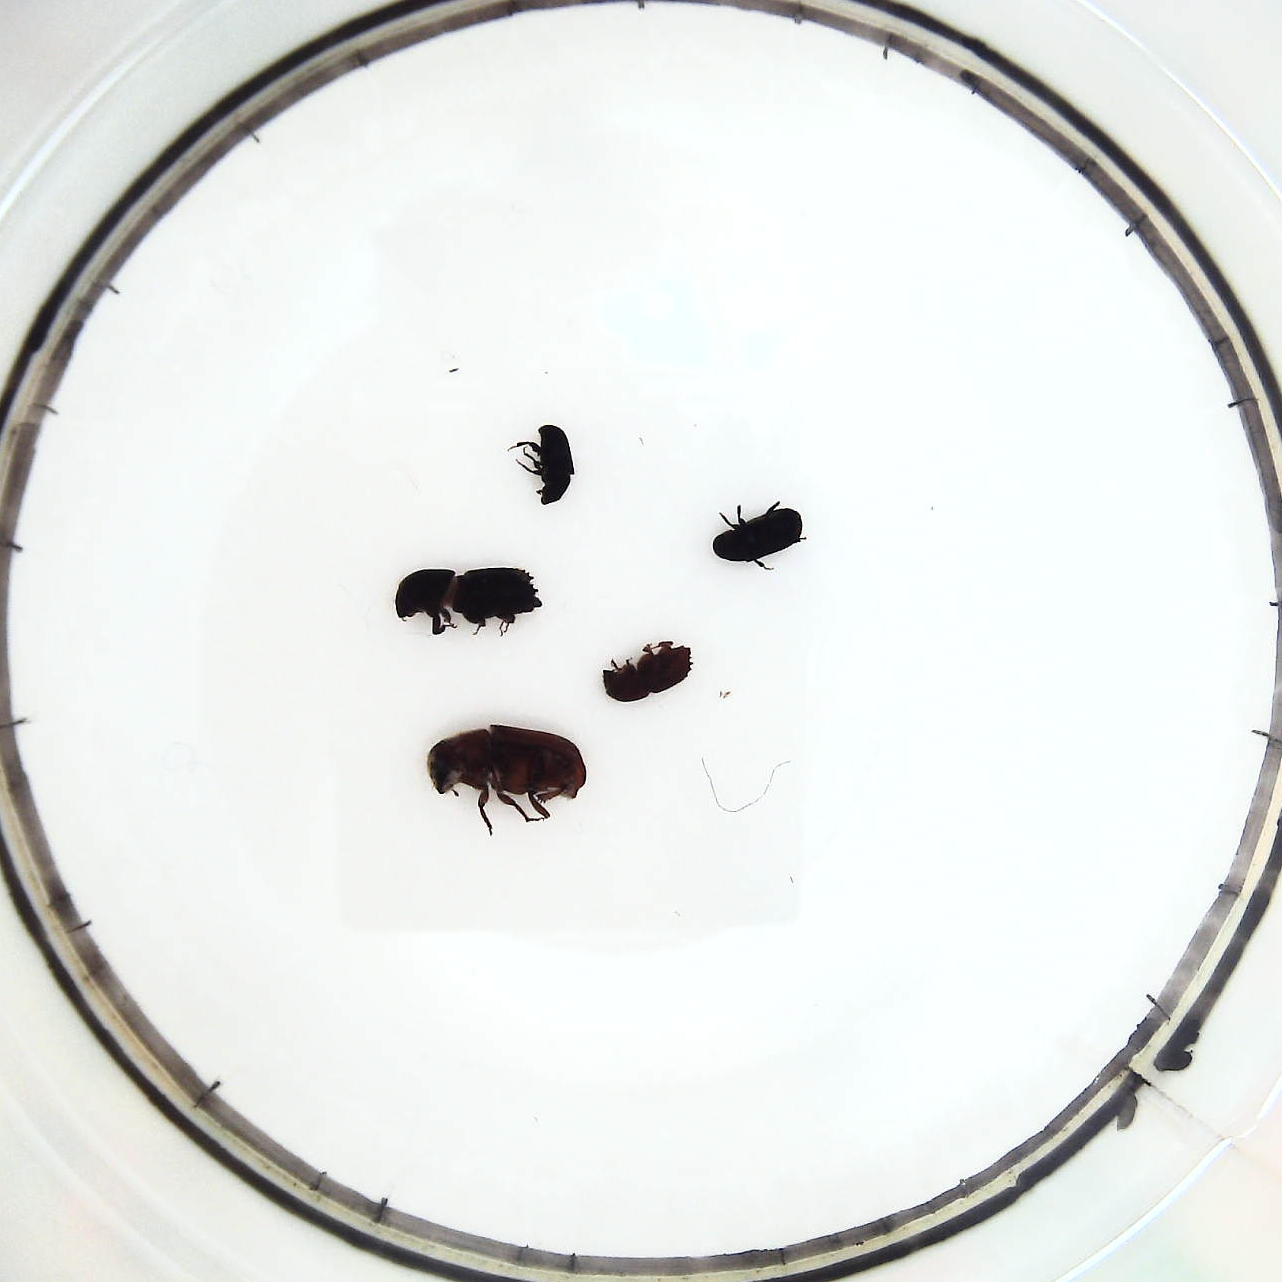Boerner: (390, 566, 546, 639)
Leconte: (421, 726, 595, 835)
armandi: (704, 500, 814, 574)
coleoptera: (514, 414, 582, 508)
linnaeus: (599, 639, 697, 710)
